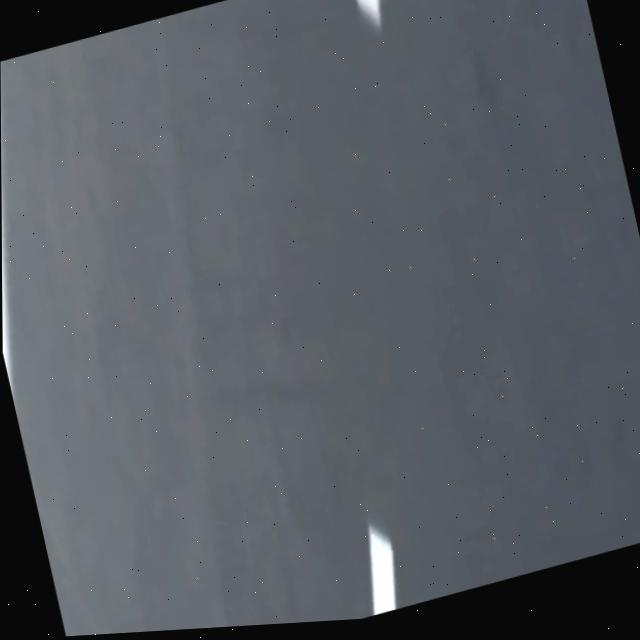center: (367, 525, 395, 615), (357, 0, 380, 27)
